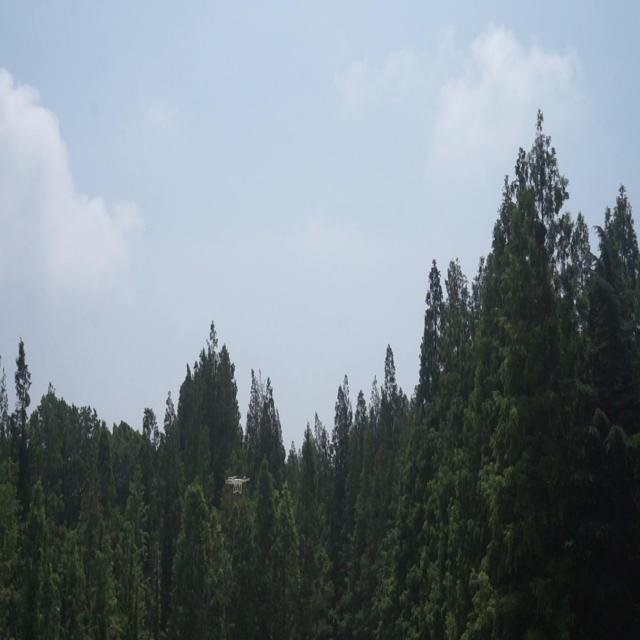UAV: (225, 475, 250, 494)
